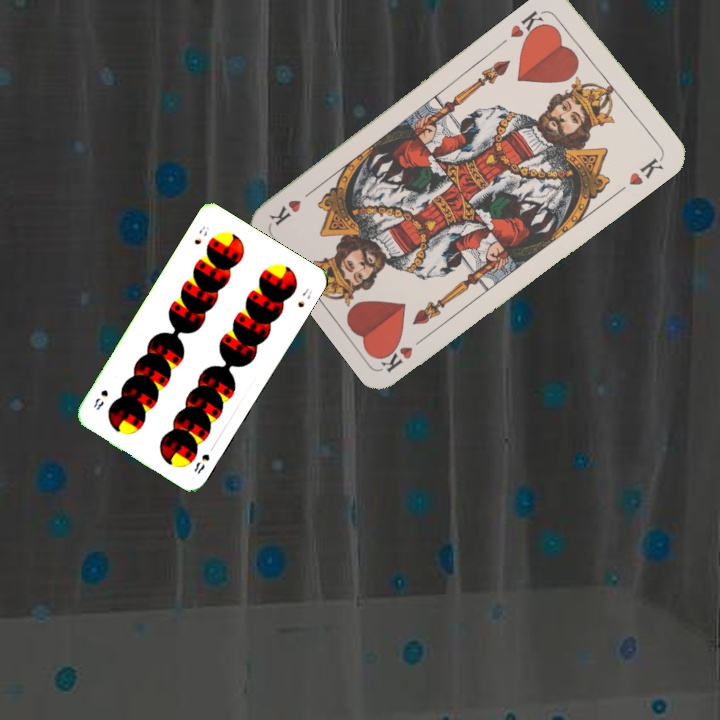HK: (376, 330, 432, 375), (506, 5, 551, 46)
S8: (190, 450, 212, 476), (190, 223, 212, 247)
